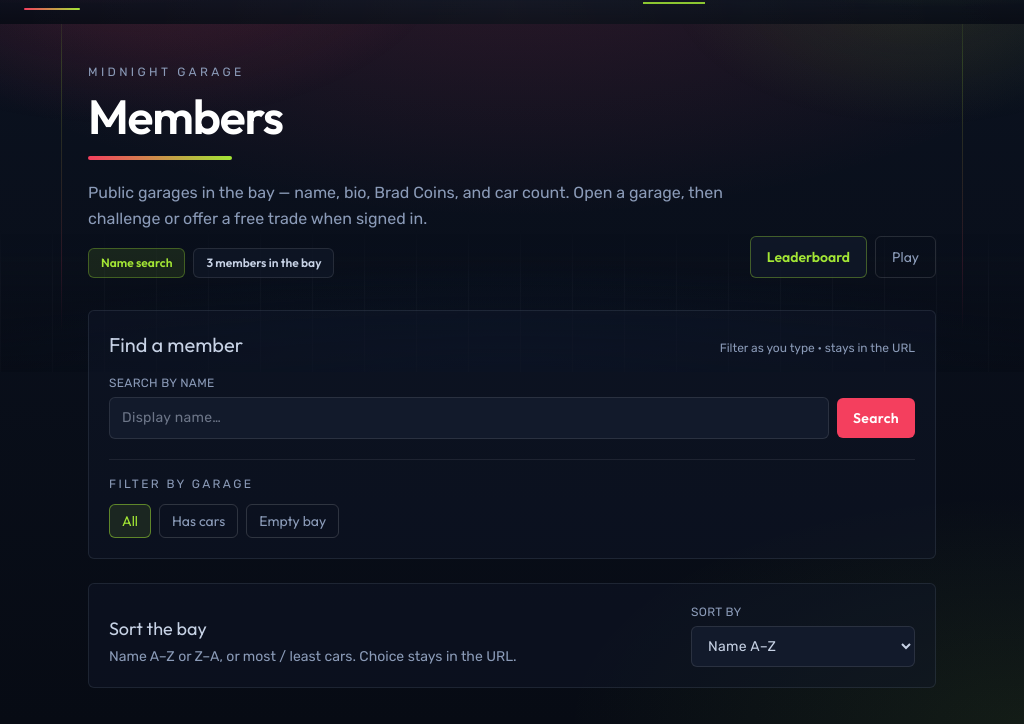
it: MembersPage Midnight Garage UI › filters Has cars and Empty bay via group chips
Step 1. Click the button "Has cars" → (199, 521), box x1=159 y1=504 x2=238 y2=538
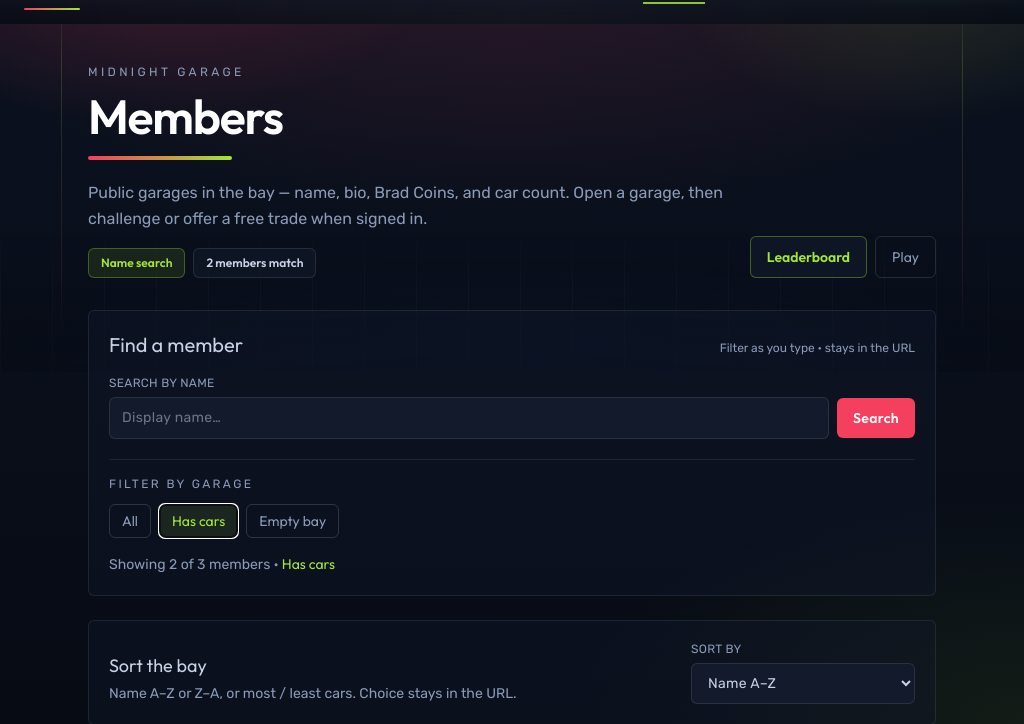
Step 2. Click the button "Empty bay" → (293, 521), box x1=246 y1=504 x2=339 y2=538
(page scrolled)
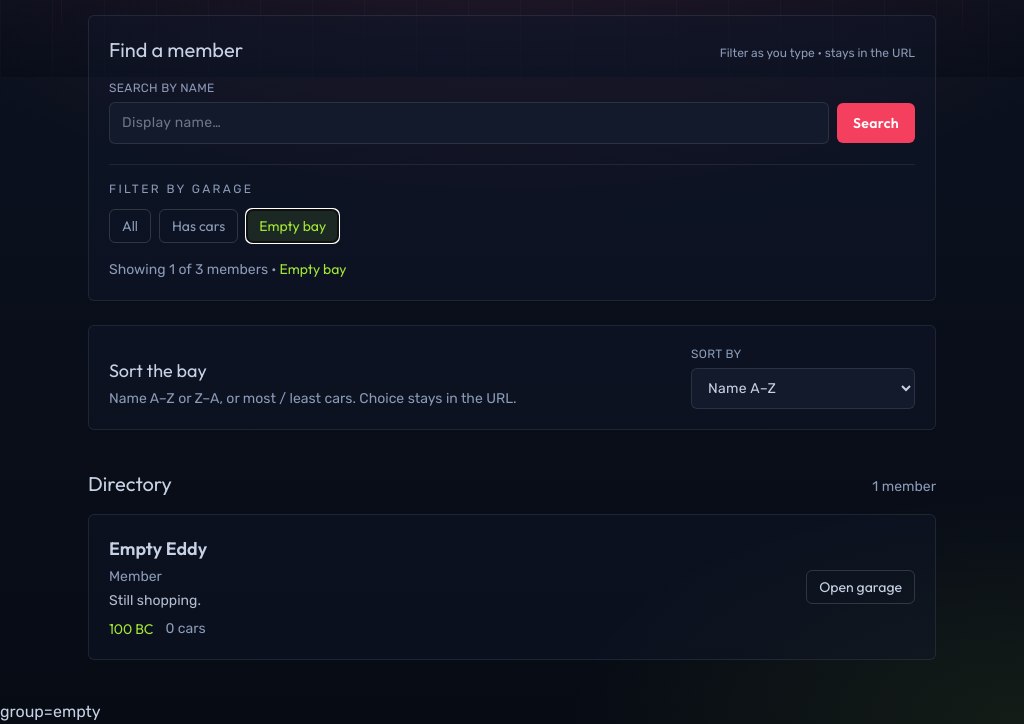
Result: the text with test id "members-params" reads "group=empty" at x1=0 y1=702 x2=101 y2=721
Result: the link "Empty Eddy" is shown at x1=109 y1=537 x2=207 y2=560
